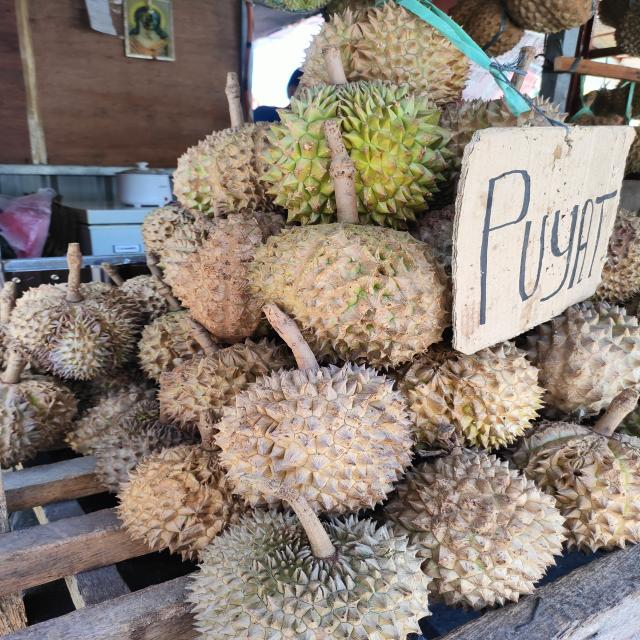mature: (207, 362, 417, 520), (372, 446, 569, 614), (185, 507, 433, 639), (241, 219, 455, 367), (369, 332, 549, 454), (489, 418, 640, 553), (300, 2, 472, 110), (112, 441, 256, 563), (169, 208, 297, 344), (1, 280, 145, 380)
